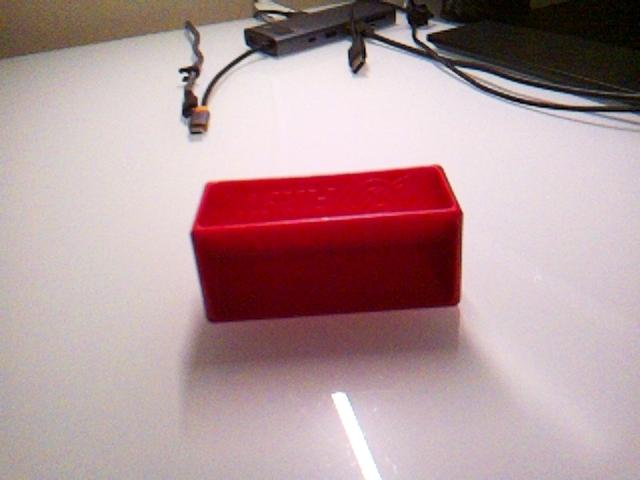red: (190, 163, 465, 323)
